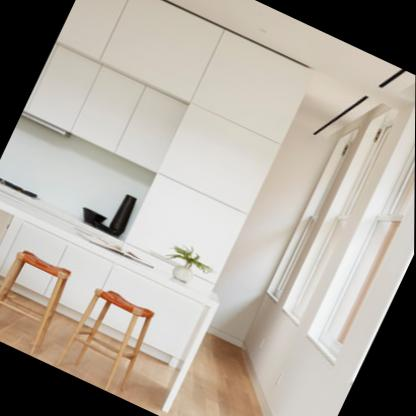Cabinet: (22, 0, 319, 218)
